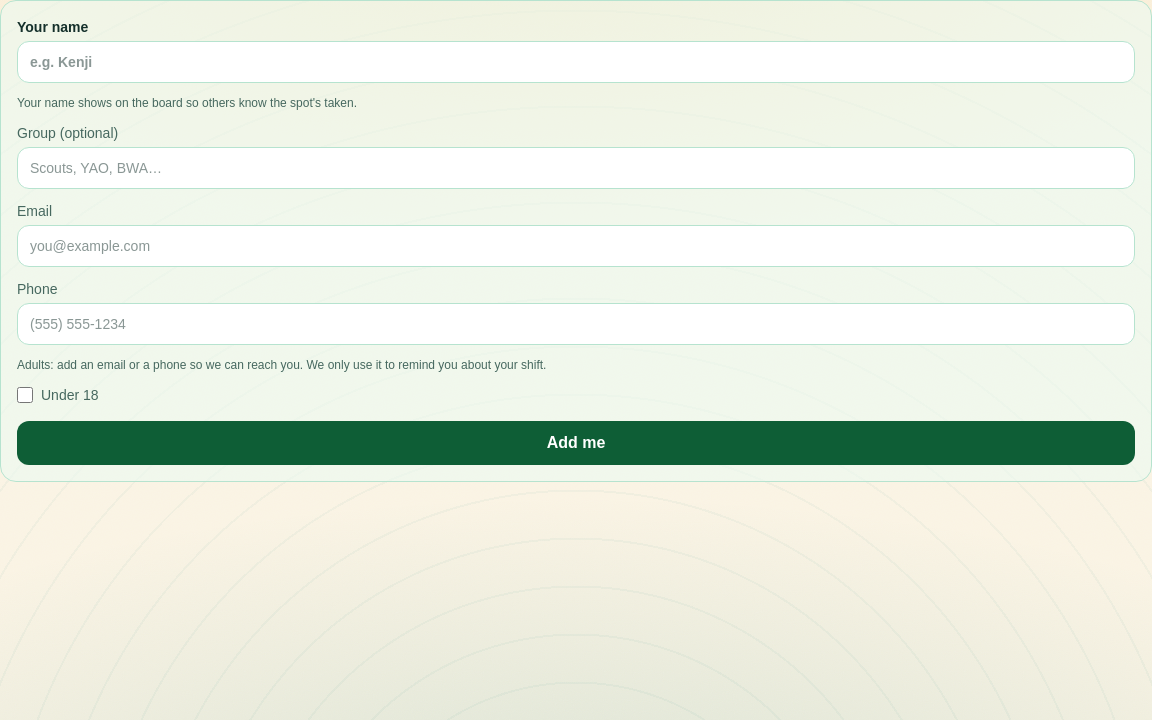
surfaces the action error and does not refresh
The width and height of the screenshot is (1152, 720).
Type "Kenji" into the field labelled "Your name" at [576, 62], box [17,41,1135,83]
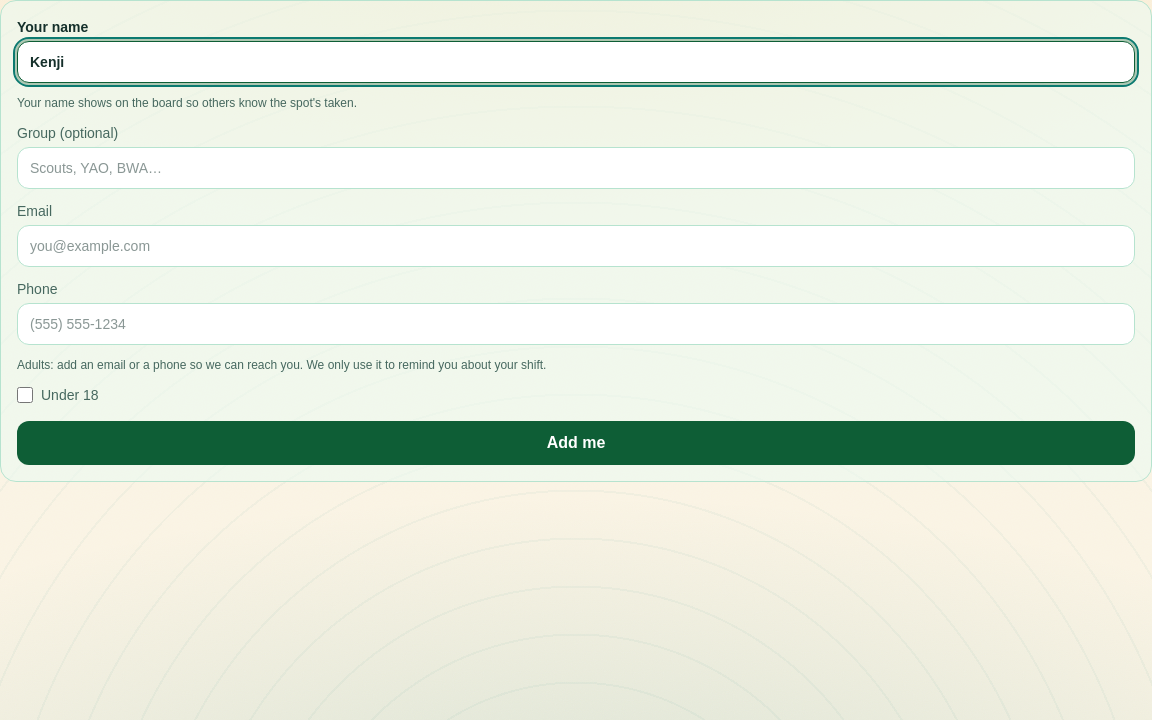
Click the button "Add me" at [576, 443], box [17,421,1135,465]
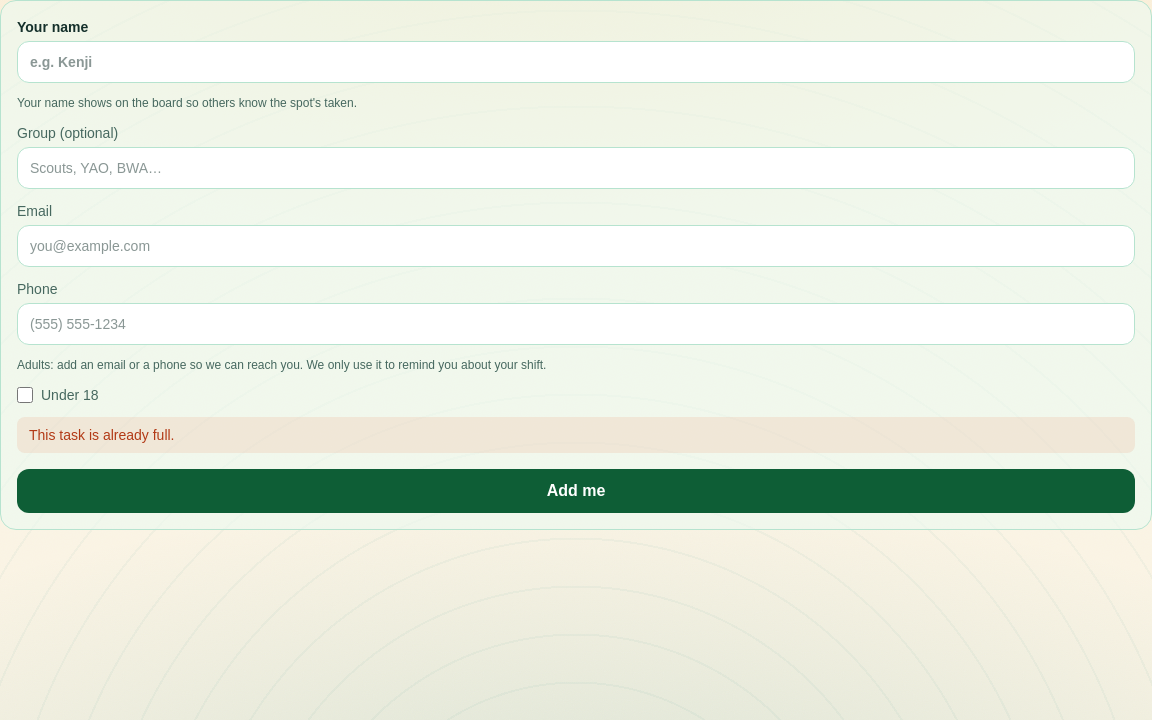
Expected: the text "This task is already full." is shown, [17,417,1135,453]
